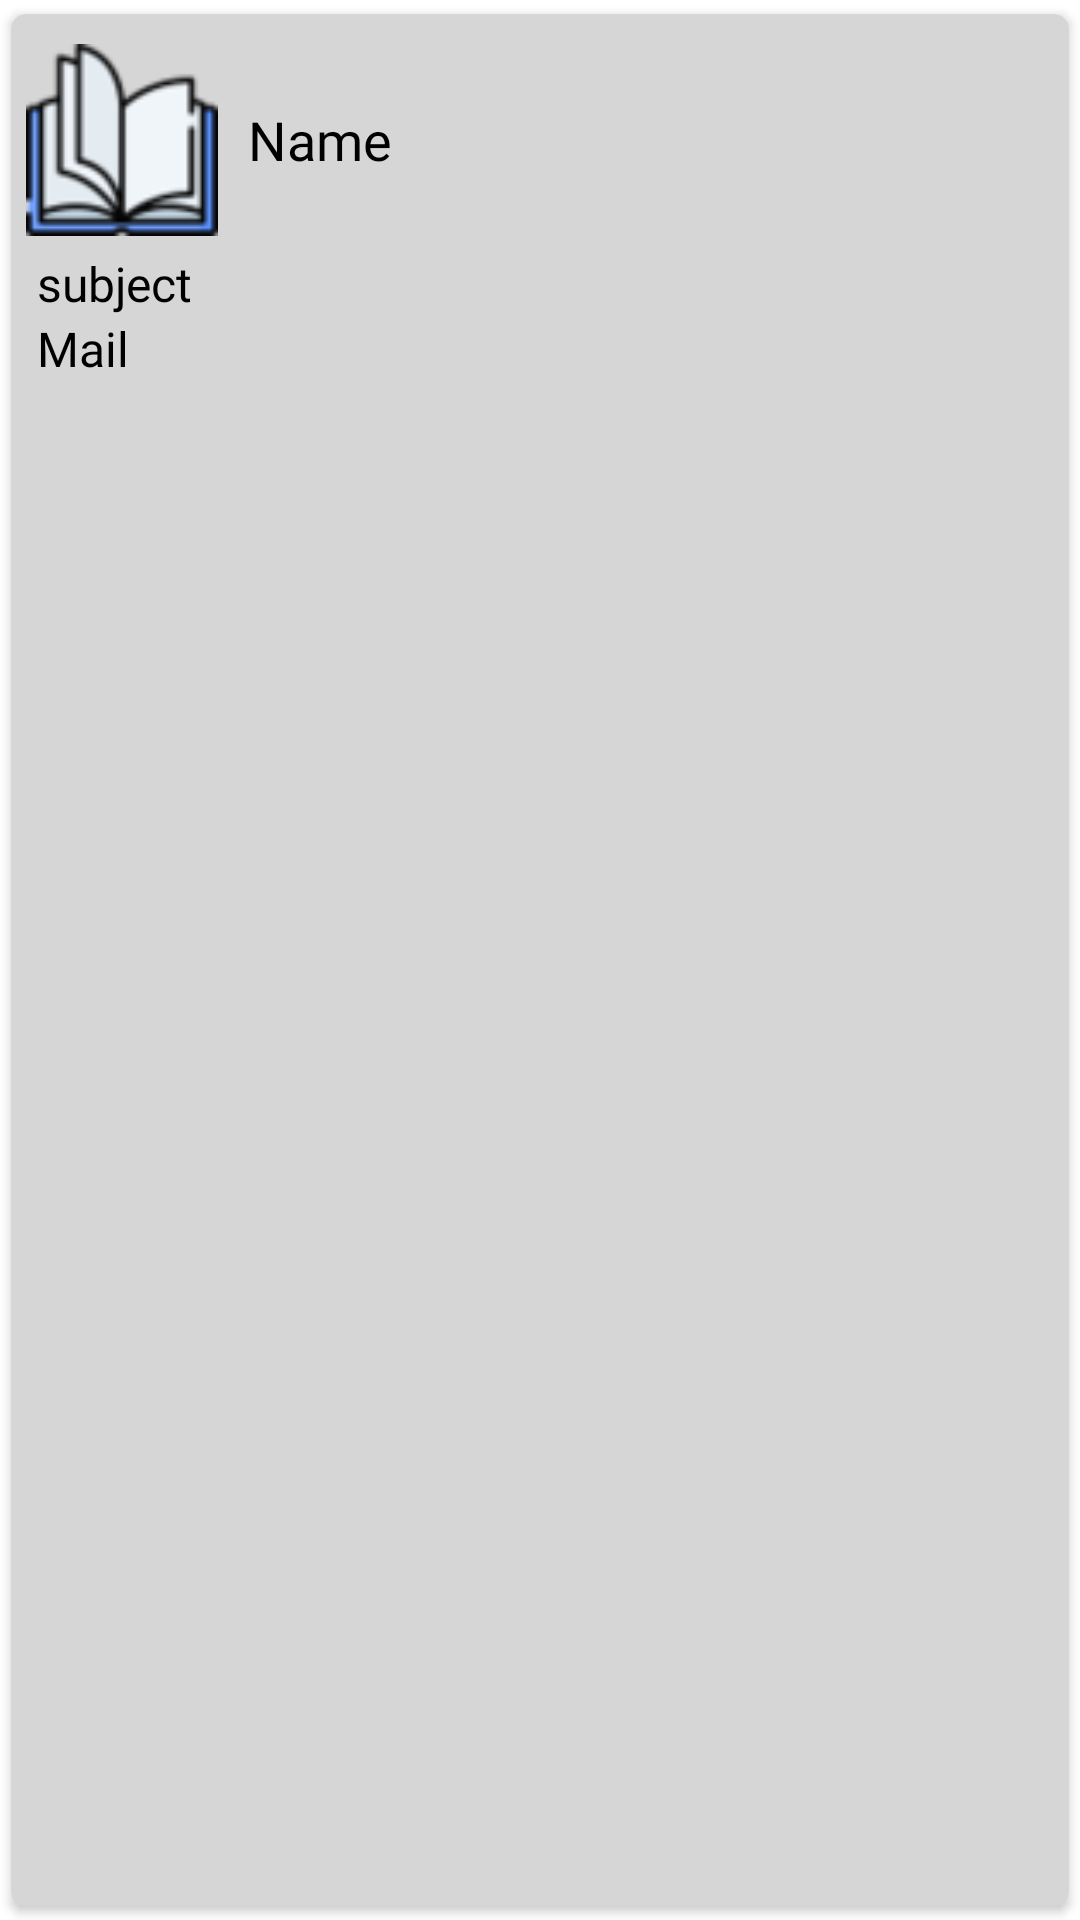

Icon click points for this 1080*1920 phone screenshot, format point (x, y):
booki: point (122, 140)
